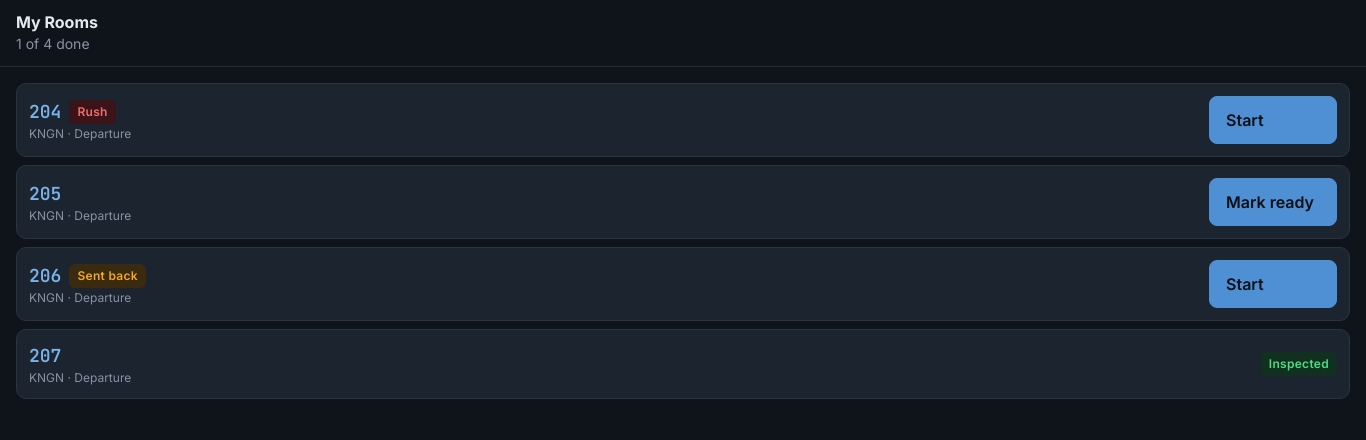
it: MyRoomsPage › shows the server error inline when starting a room fails
The image size is (1366, 440).
Click the 1st button "Start".
click(1273, 120)  # box x1=1209 y1=96 x2=1337 y2=144
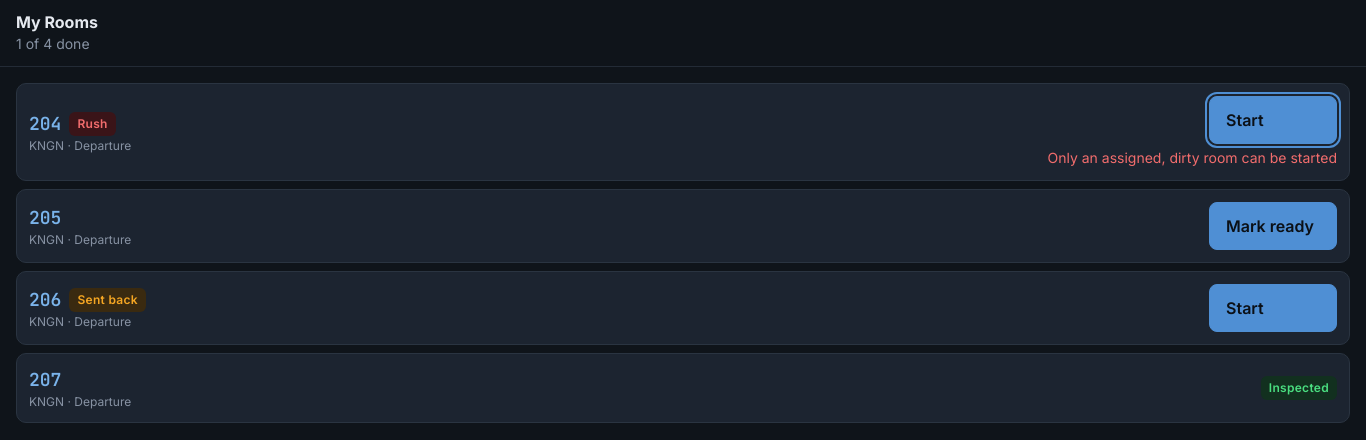
Expected: the message reads "Only an assigned, dirty room can be started", x1=1048 y1=149 x2=1337 y2=166
